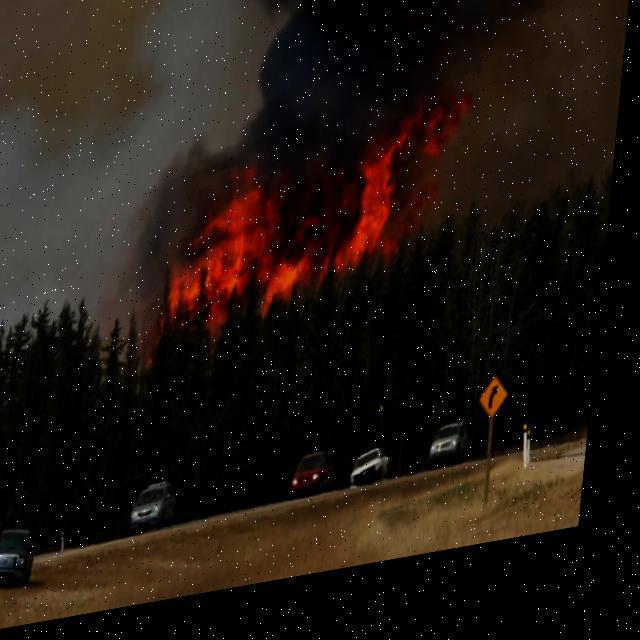Fire: (166, 124, 461, 324)
